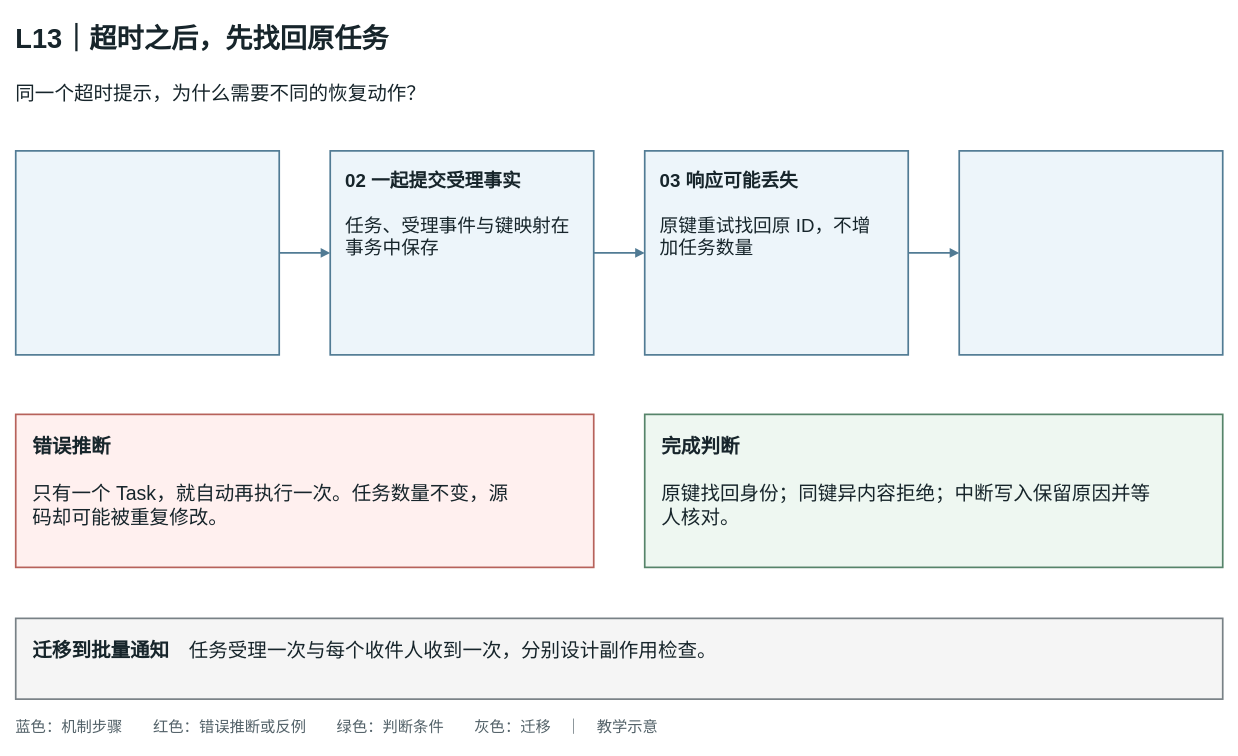
Some shapes in this 1238 by 756 pixel diagram are drawn without their labels. The shapes that lost their labels are listed below. From the top down, each one's centre as x and y in pixels, then its label:
At [147,252]: "01 保留原请求 沿用 L13-original、原 内容与请求者".
At [1090,252]: "04 核对执行副作用 代码执行中断：查原任务、 Diff 与残留进程".
